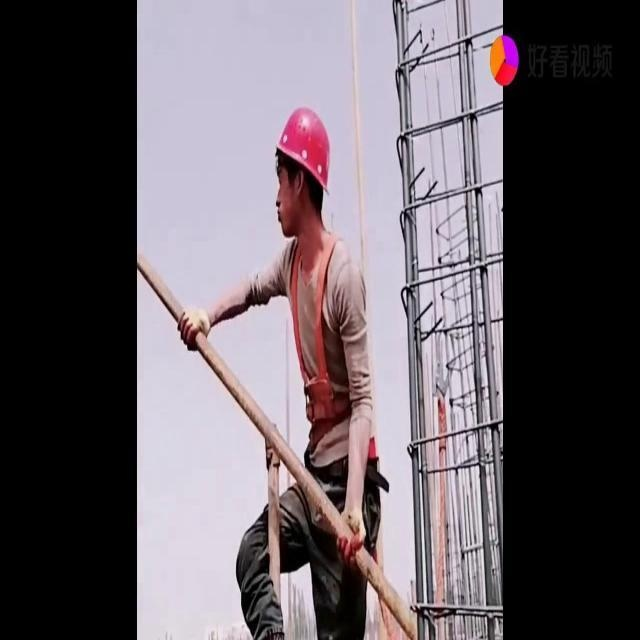Arnes_seguridad: (287, 226, 360, 427)
